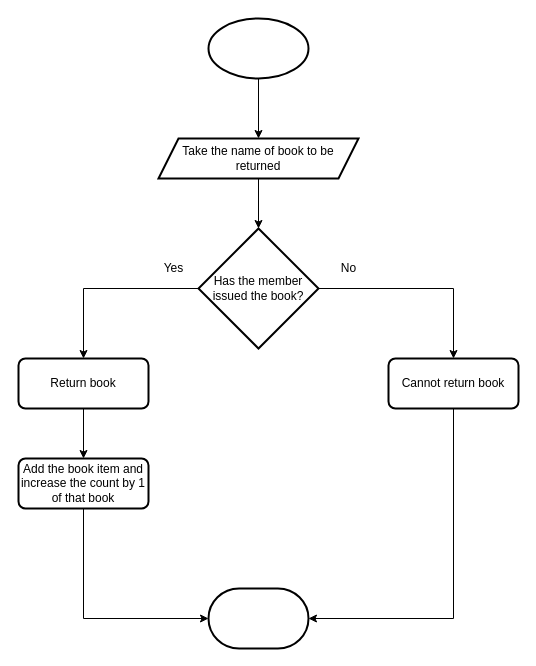
The diagram is 536 pixels wide and 666 high, and some of its shapes have lost their labels. The centre of each missing label's shape, as x and y in pixels:
"END" goes at [258,618].
"START" goes at [258,48].
